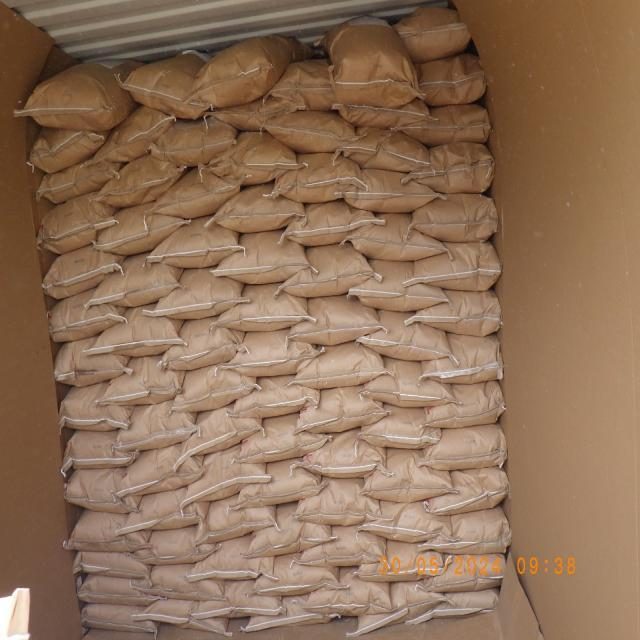gunny_bag: (16, 58, 139, 133), (194, 34, 310, 110), (323, 17, 418, 96), (123, 50, 214, 120), (115, 436, 204, 499), (180, 447, 270, 508), (150, 268, 249, 322), (280, 245, 377, 300), (332, 48, 422, 107), (91, 106, 176, 168), (86, 254, 183, 308), (214, 232, 310, 286), (96, 201, 188, 257), (210, 130, 302, 186), (148, 214, 244, 267), (36, 192, 118, 254), (96, 151, 186, 207), (88, 308, 184, 360), (363, 451, 456, 504), (346, 263, 446, 312), (210, 184, 304, 236), (158, 318, 248, 372), (216, 282, 313, 332), (235, 414, 328, 466), (350, 212, 448, 261), (288, 296, 384, 346), (356, 313, 452, 363), (284, 199, 384, 247), (353, 587, 449, 637), (410, 243, 504, 294), (246, 506, 334, 560), (272, 151, 365, 202), (227, 330, 321, 380), (114, 485, 208, 535), (152, 168, 242, 220), (361, 357, 456, 406), (43, 245, 124, 302), (394, 4, 472, 63), (236, 460, 326, 510), (409, 193, 499, 243), (178, 406, 262, 459), (422, 510, 514, 558), (152, 118, 240, 168), (114, 399, 197, 452), (172, 362, 258, 413), (300, 428, 386, 479), (412, 292, 505, 339), (295, 342, 388, 389), (298, 386, 389, 434), (98, 354, 185, 404), (343, 168, 438, 213), (45, 290, 123, 344), (428, 467, 512, 517), (424, 333, 506, 384), (261, 112, 356, 156), (420, 424, 505, 472), (54, 335, 132, 387), (342, 128, 432, 173), (194, 494, 275, 544), (295, 480, 382, 526), (185, 536, 272, 582), (231, 378, 321, 422), (427, 378, 507, 426), (63, 508, 150, 552), (34, 160, 119, 205), (397, 105, 490, 146), (188, 577, 281, 618), (250, 554, 338, 597), (417, 54, 489, 106), (134, 600, 232, 638), (27, 128, 107, 174), (132, 523, 219, 565), (299, 528, 386, 570), (266, 60, 336, 112), (361, 500, 452, 540), (56, 384, 130, 433), (304, 572, 390, 614), (408, 153, 496, 194), (61, 468, 139, 514), (362, 406, 444, 449), (355, 544, 445, 583), (131, 562, 223, 600), (422, 552, 509, 592), (245, 597, 338, 634), (206, 98, 296, 134), (63, 431, 139, 471), (336, 102, 429, 134), (79, 572, 162, 606), (418, 586, 504, 616), (82, 604, 162, 635), (71, 550, 152, 579)
